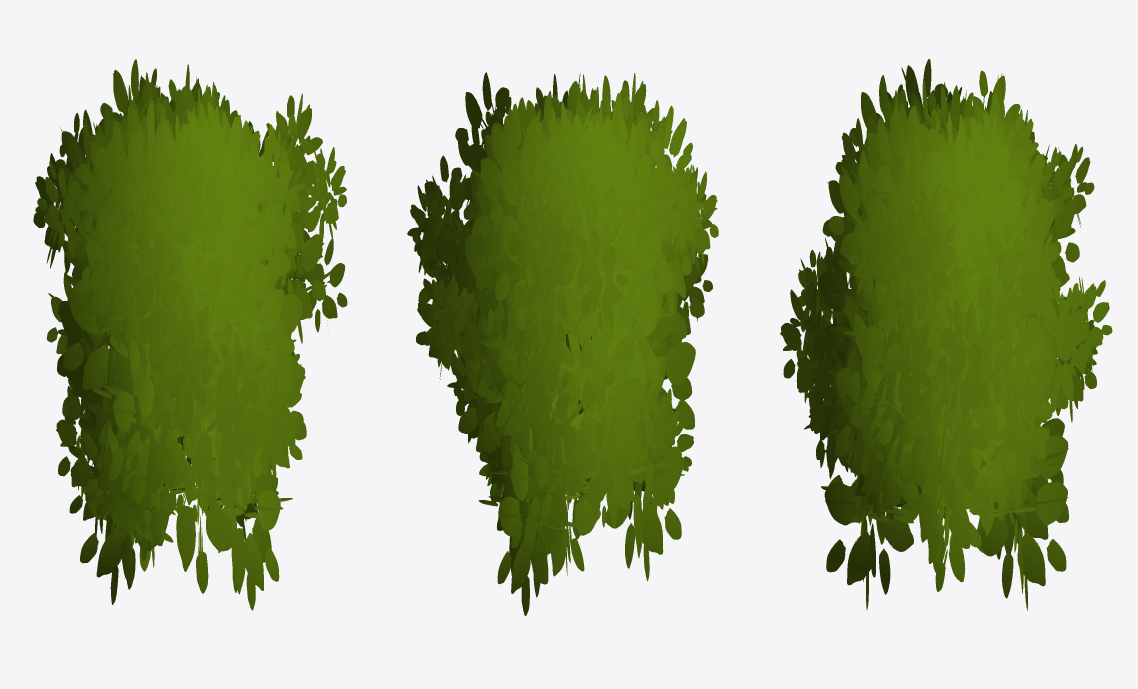
The model's file is conifer-column.glb.
3 renders of one model, left to right at view 1: azimuth 30°, elevation 25°; view 2: azimuth 150°, elevation 25°; view 3: azimuth 270°, elevation 25°, orthographic. The views are drawn at different scales.
Parts seen in each view (by area): view 1: Bush_Common; view 2: Bush_Common; view 3: Bush_Common.
Part boxes in pixels (x1=…): Bush_Common: x1=33, y1=59, x2=347, y2=610; Bush_Common: x1=407, y1=72, x2=718, y2=615; Bush_Common: x1=780, y1=59, x2=1112, y2=610.
Size of the model in its own units: 0.5084 by 1 by 0.5218.
1 material, 1 textured.
